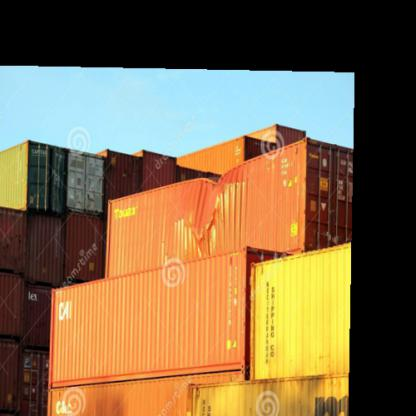Damage: (192, 162, 242, 240)
